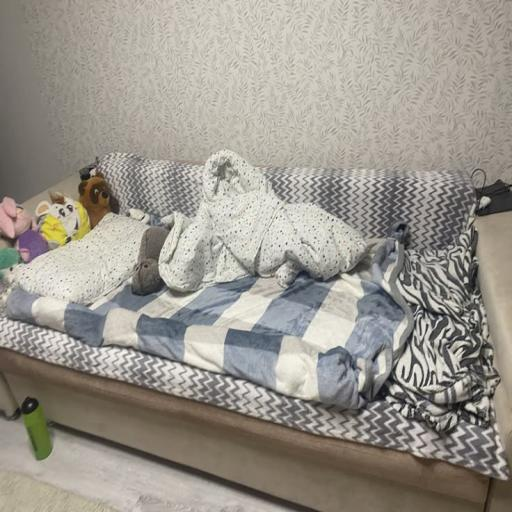bench: (21, 397, 52, 460)
sidewalk: (0, 346, 511, 511)
